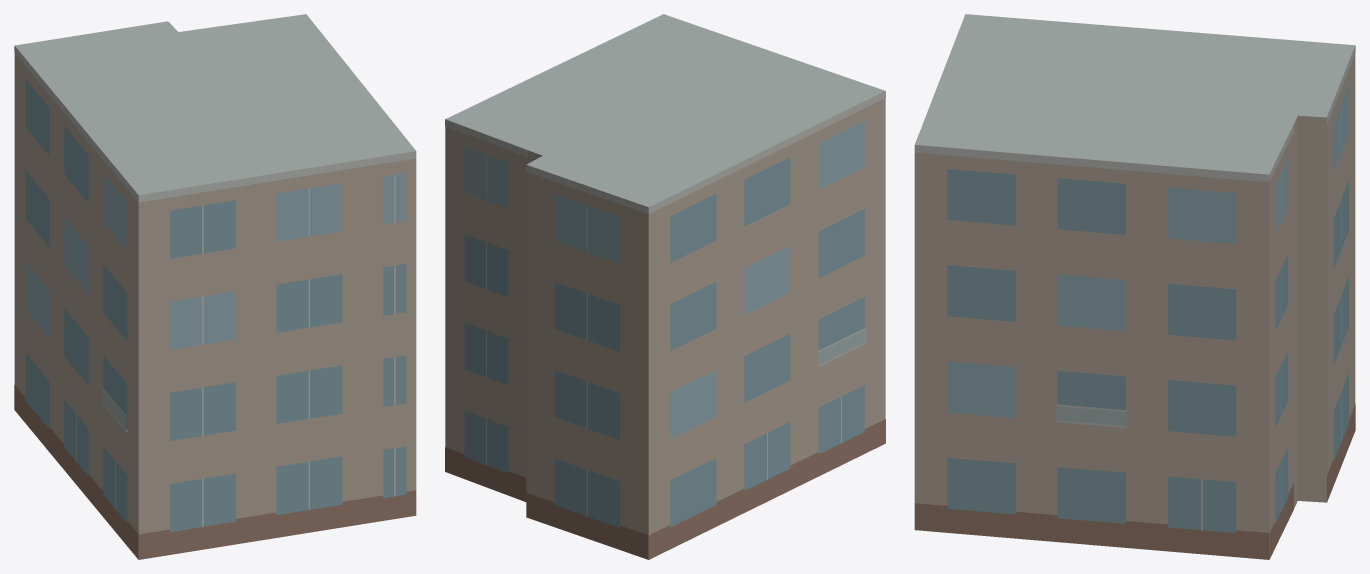
File: survey-upis-32660116.glb
The picture shows the model from 3 angles, left to right: view 1: azimuth 30°, elevation 25°; view 2: azimuth 150°, elevation 25°; view 3: azimuth 270°, elevation 25°; orthographic projection. The views are drawn at different scales.
Parts seen in each view (by area): view 1: survey-upis-32660116.tmp; view 2: survey-upis-32660116.tmp; view 3: survey-upis-32660116.tmp.
Boxes of the visible parts, x1,y1,x2,y2 form: survey-upis-32660116.tmp: (14,14,416,559); survey-upis-32660116.tmp: (445,14,885,559); survey-upis-32660116.tmp: (914,14,1355,559).
Size of the model in its own units: 10.92 by 12.2 by 12.66.
